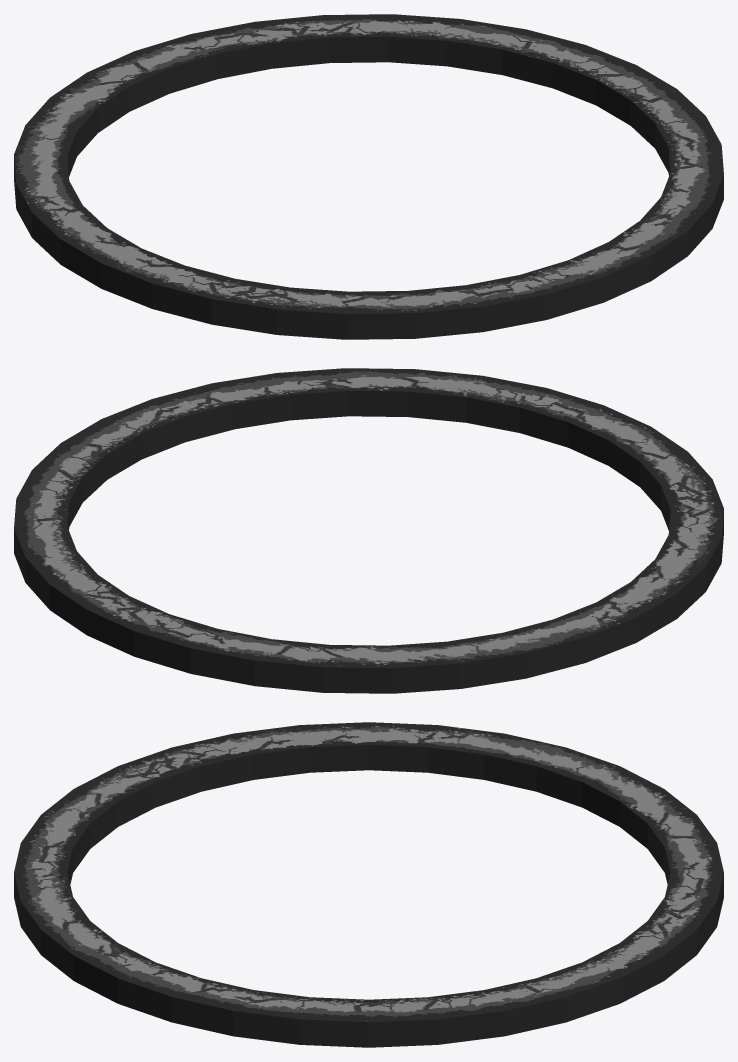
Rendered from CylinderMesh.fbx.
The picture shows the model from 3 angles, top to bottom: view 1: azimuth 30°, elevation 25°; view 2: azimuth 150°, elevation 25°; view 3: azimuth 270°, elevation 25°; orthographic projection.
Visible parts, largest first — view 1: Cylinder; view 2: Cylinder; view 3: Cylinder.
Boxes of the visible parts, left/top/right/bottom form: Cylinder: left=14, top=14, right=723, bottom=339; Cylinder: left=14, top=368, right=723, bottom=693; Cylinder: left=14, top=722, right=723, bottom=1047.
Bounding box in the file's own units: 6400 × 254 × 6400.
Materials: 1 (1 with a texture image).
